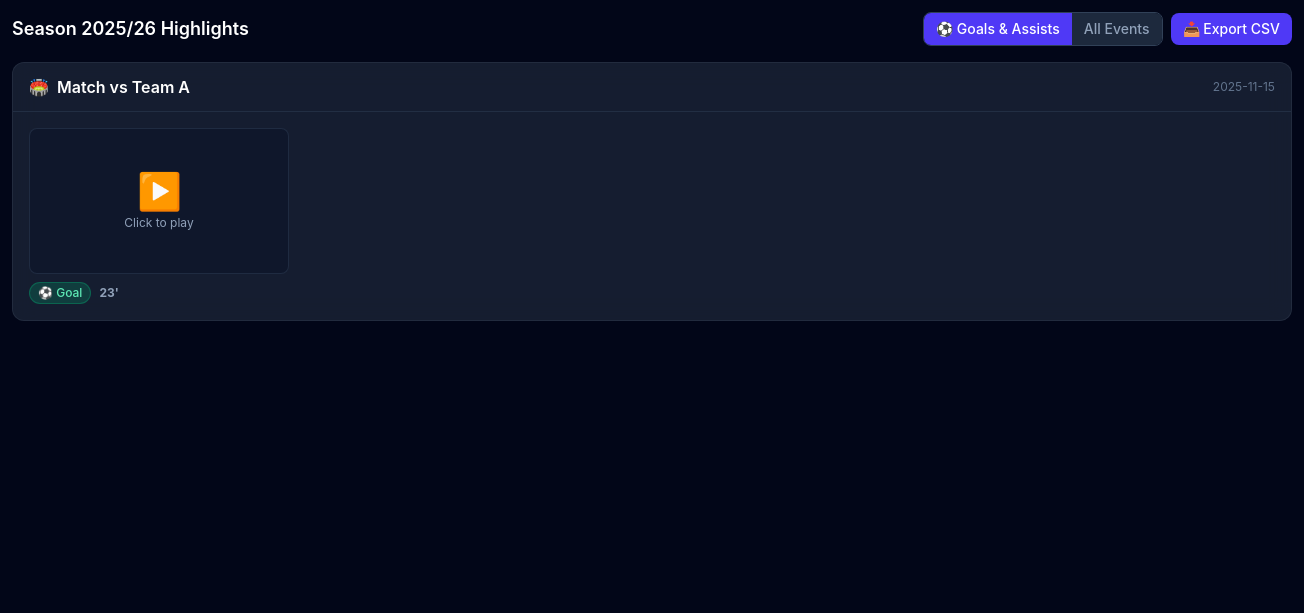
Test case: HighlightsSection › shows all events when All Events filter is clicked
The width and height of the screenshot is (1304, 613).
Click the button "All Events" at [1117, 29], box [1072, 13, 1162, 45]
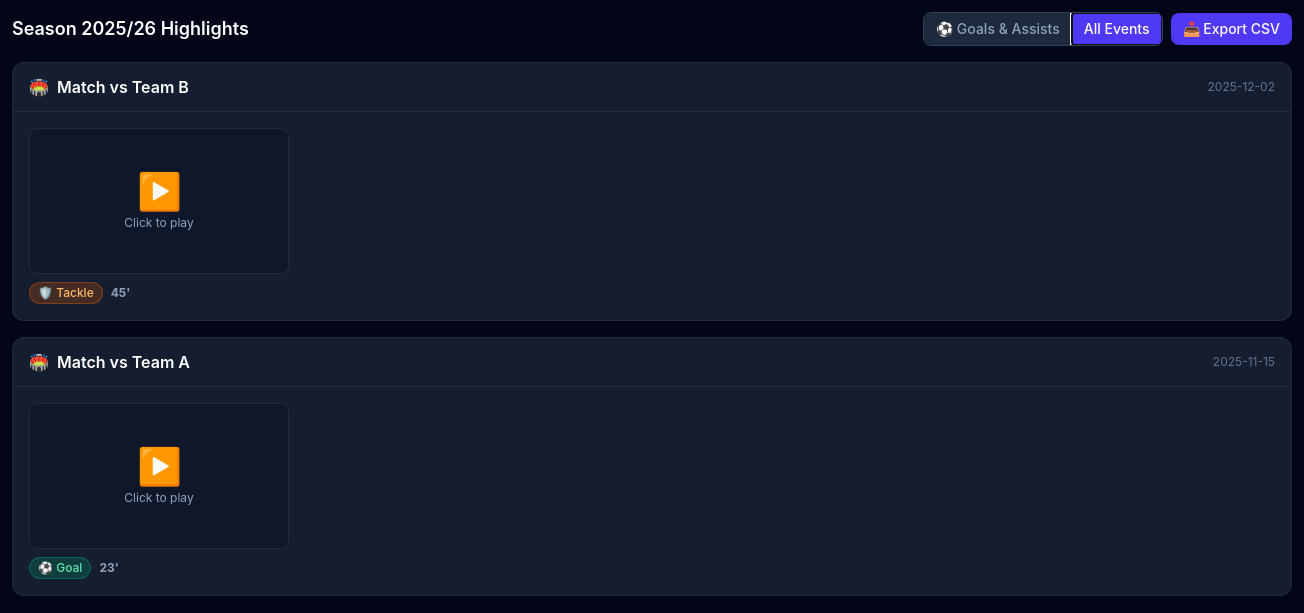
Expected: the heading "Match vs Team A" is shown, [57, 350, 190, 374]
Expected: the heading "Match vs Team B" is shown, [57, 75, 189, 99]
